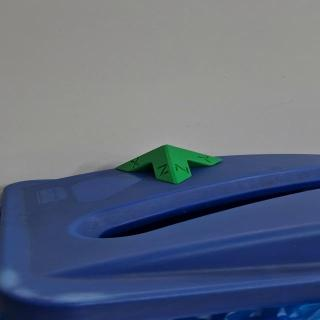eje: (114, 143, 223, 184)
